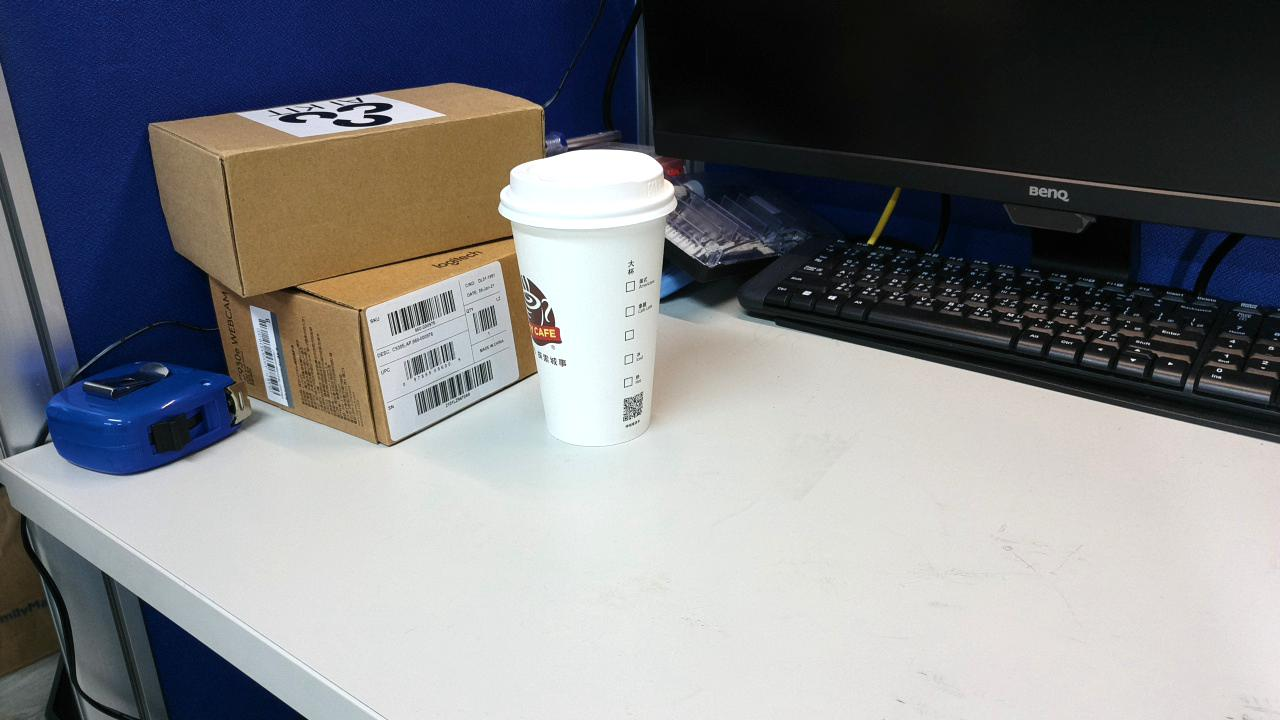long: (949, 348, 1073, 431)
